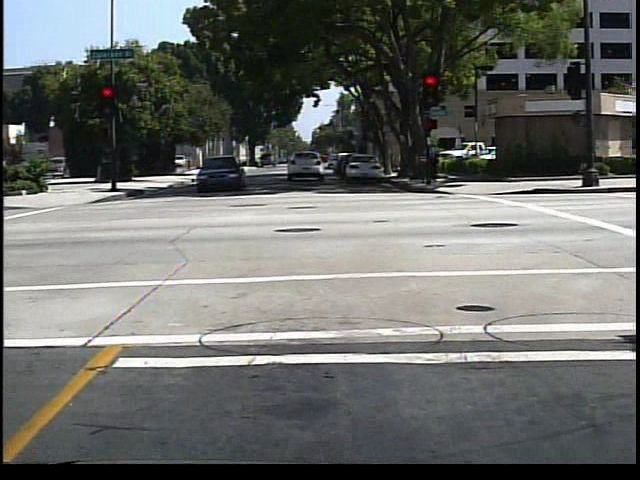person: (423, 137, 444, 188)
